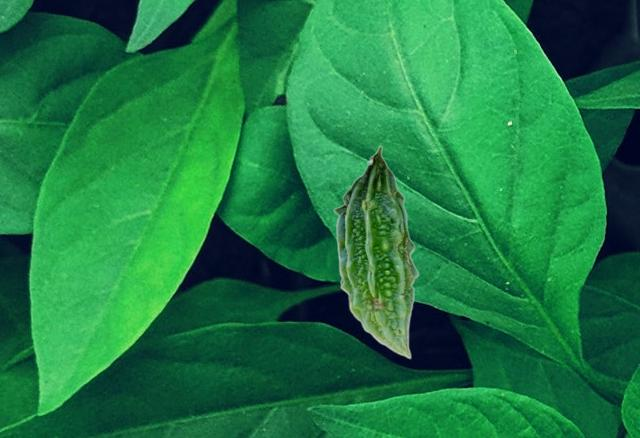ampalaya: (333, 144, 419, 360)
